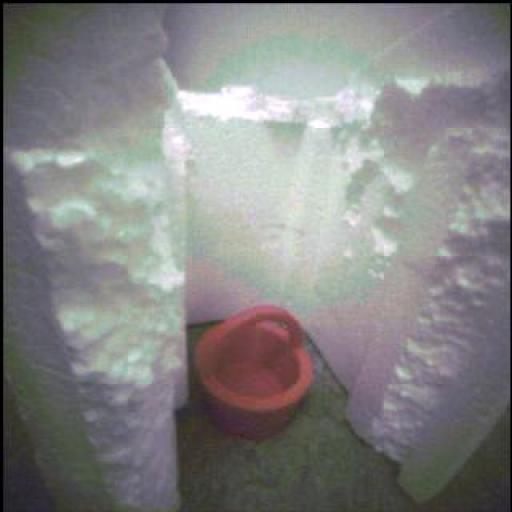Bucket: (196, 307, 313, 441)
